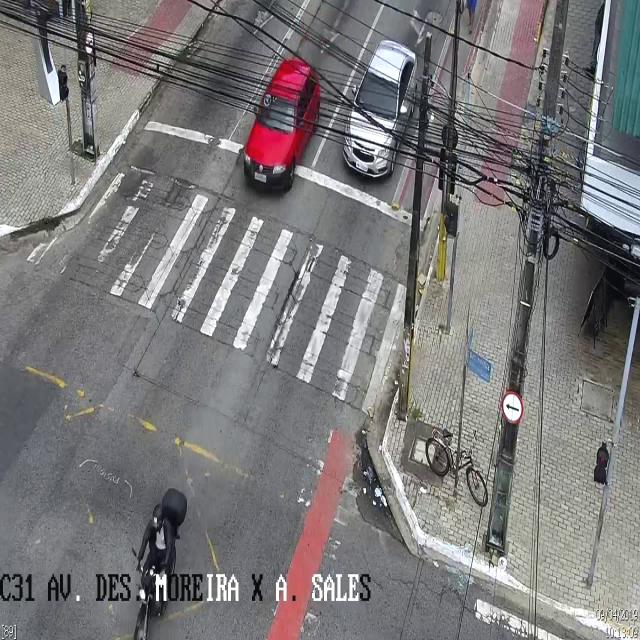Car: (343, 38, 417, 178), (244, 60, 321, 194)
Motorcycle: (132, 489, 186, 639)
